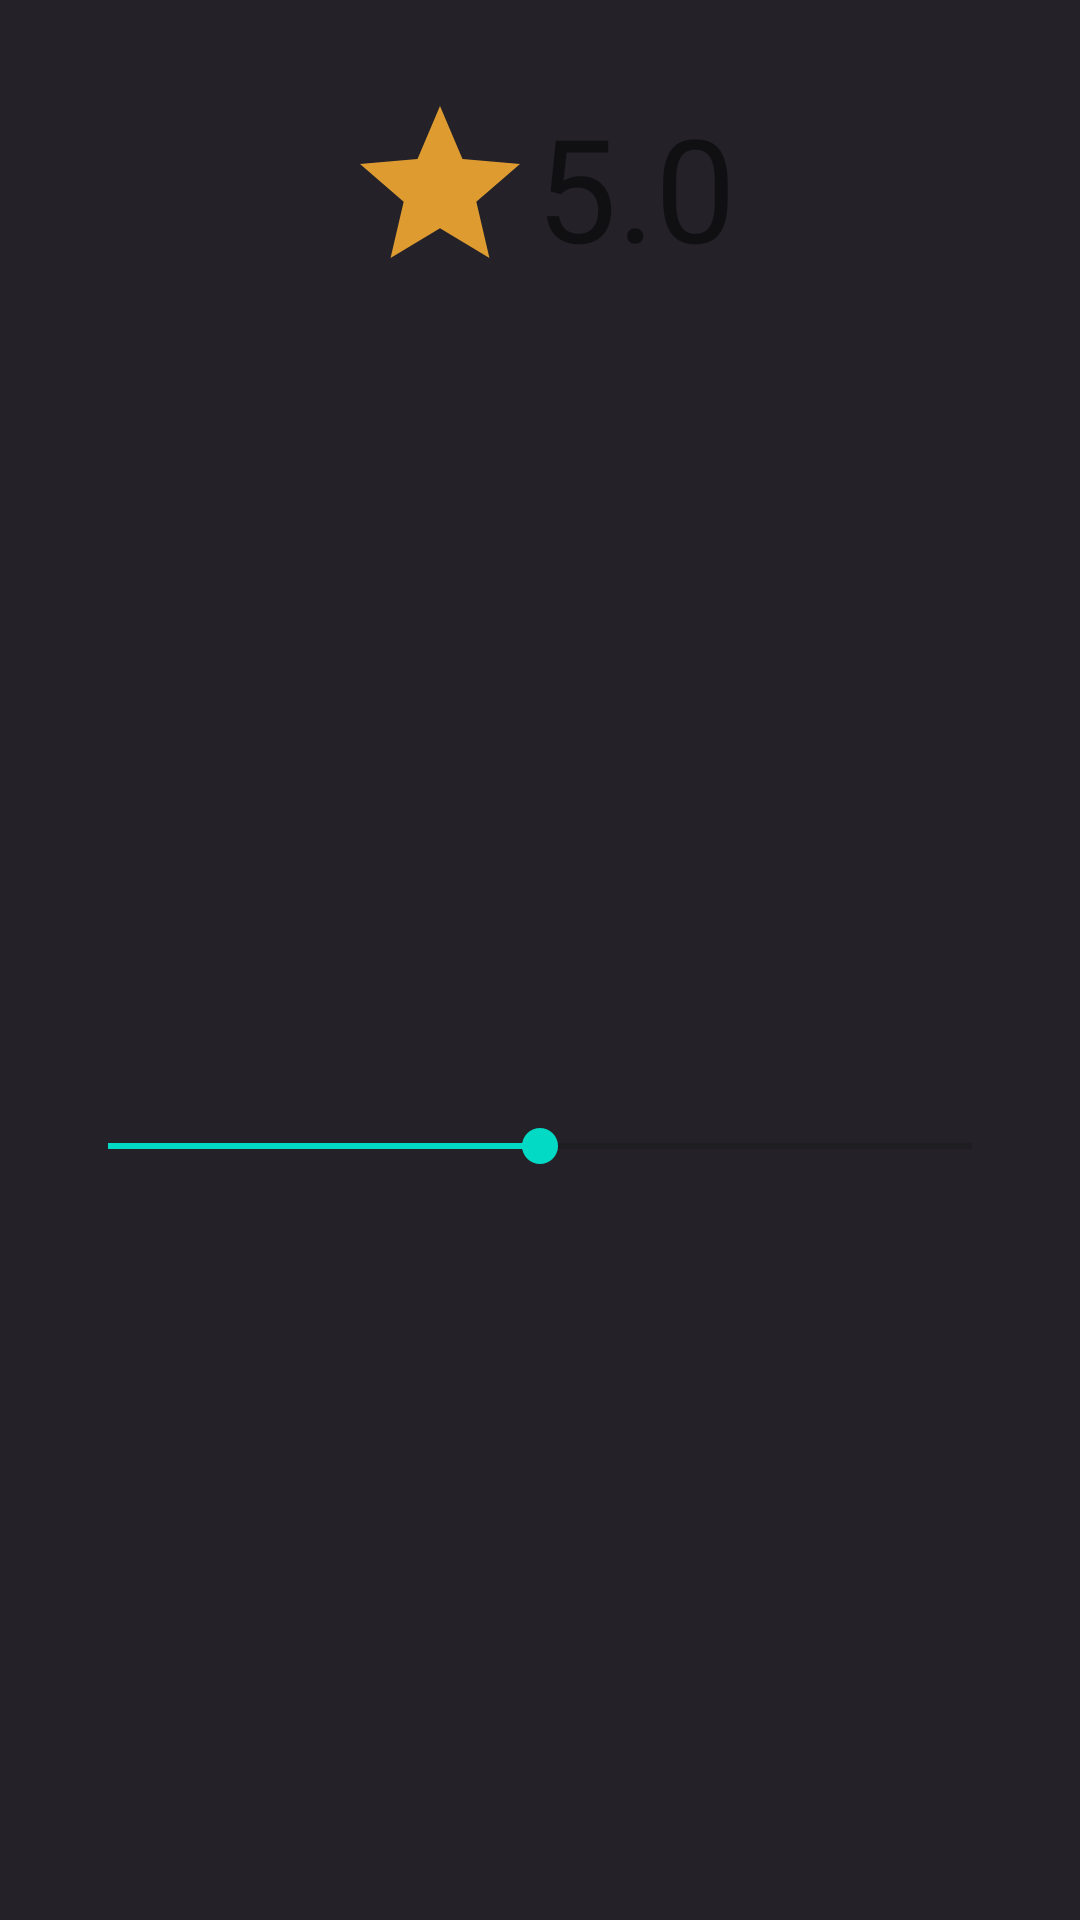

Locate icon controls on the screen. Image size 1080x1920, boxes as (x1, y1, x2, y2).
star: (360, 106, 520, 258)
